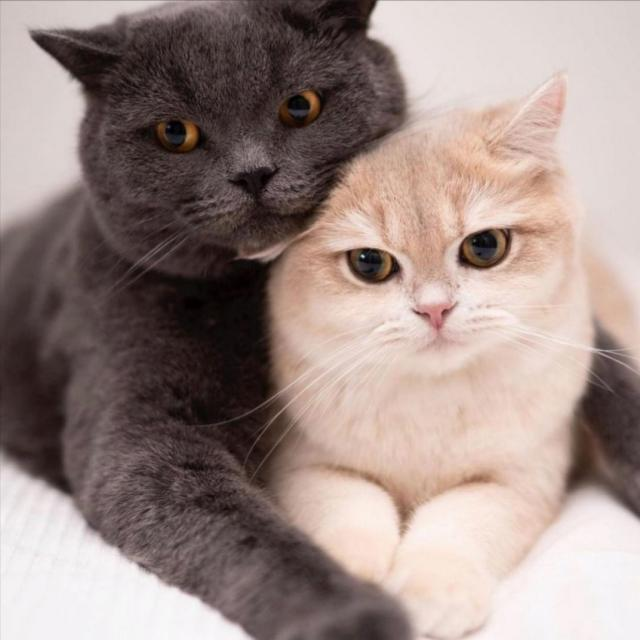da khoe manh: (330, 377, 492, 550), (62, 273, 186, 479)
